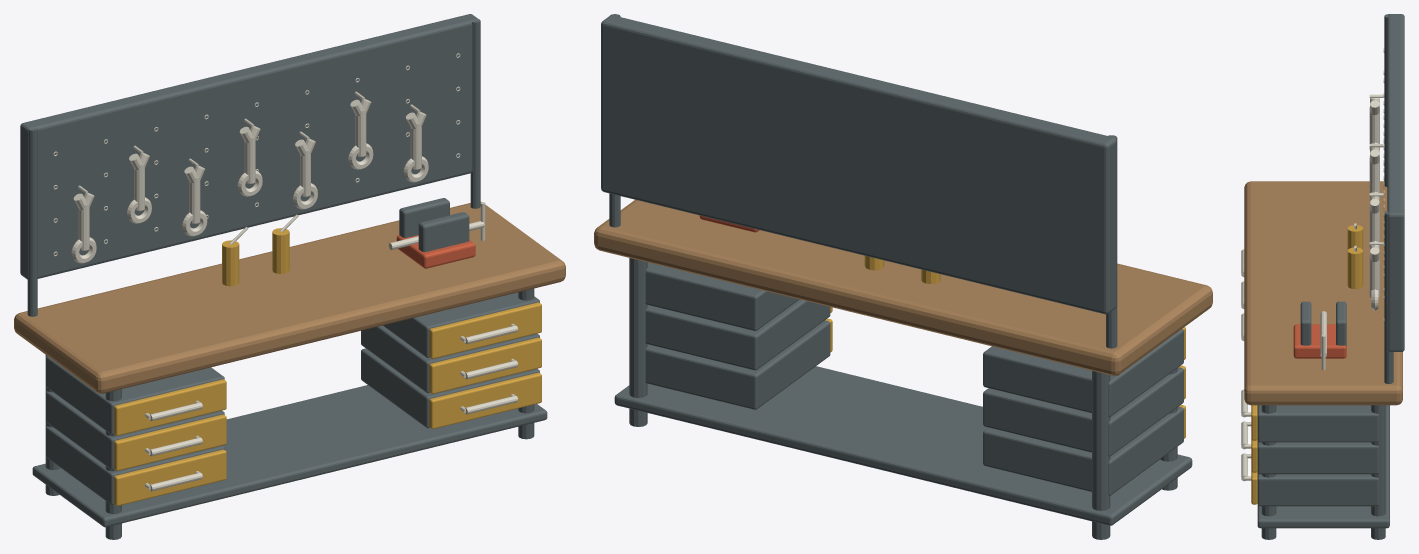
File: mei-workbench.glb
The picture shows the model from 3 angles, left to right: view 1: azimuth 30°, elevation 25°; view 2: azimuth 150°, elevation 25°; view 3: azimuth 270°, elevation 25°; orthographic projection. The views are drawn at different scales.
Visible parts, largest first — view 1: AuthoredWorkshop; view 2: AuthoredWorkshop; view 3: AuthoredWorkshop.
Part boxes in pixels (<box>): AuthoredWorkshop: <box>14,14,565,539</box>; AuthoredWorkshop: <box>594,14,1212,539</box>; AuthoredWorkshop: <box>1241,14,1404,539</box>.
Size of the model in its own units: 2.8 by 2.07 by 0.928.
